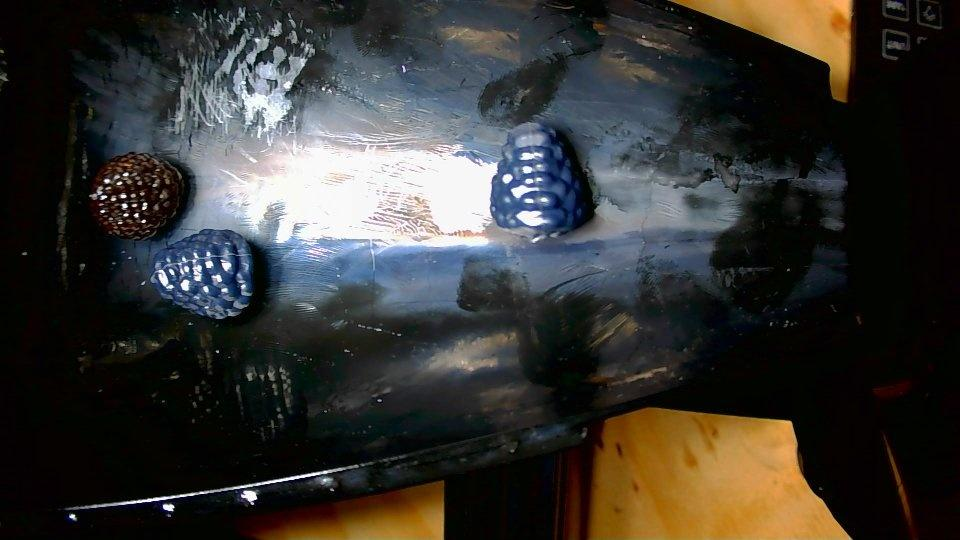berry: (490, 123, 591, 241), (151, 230, 253, 318), (88, 152, 184, 239)
